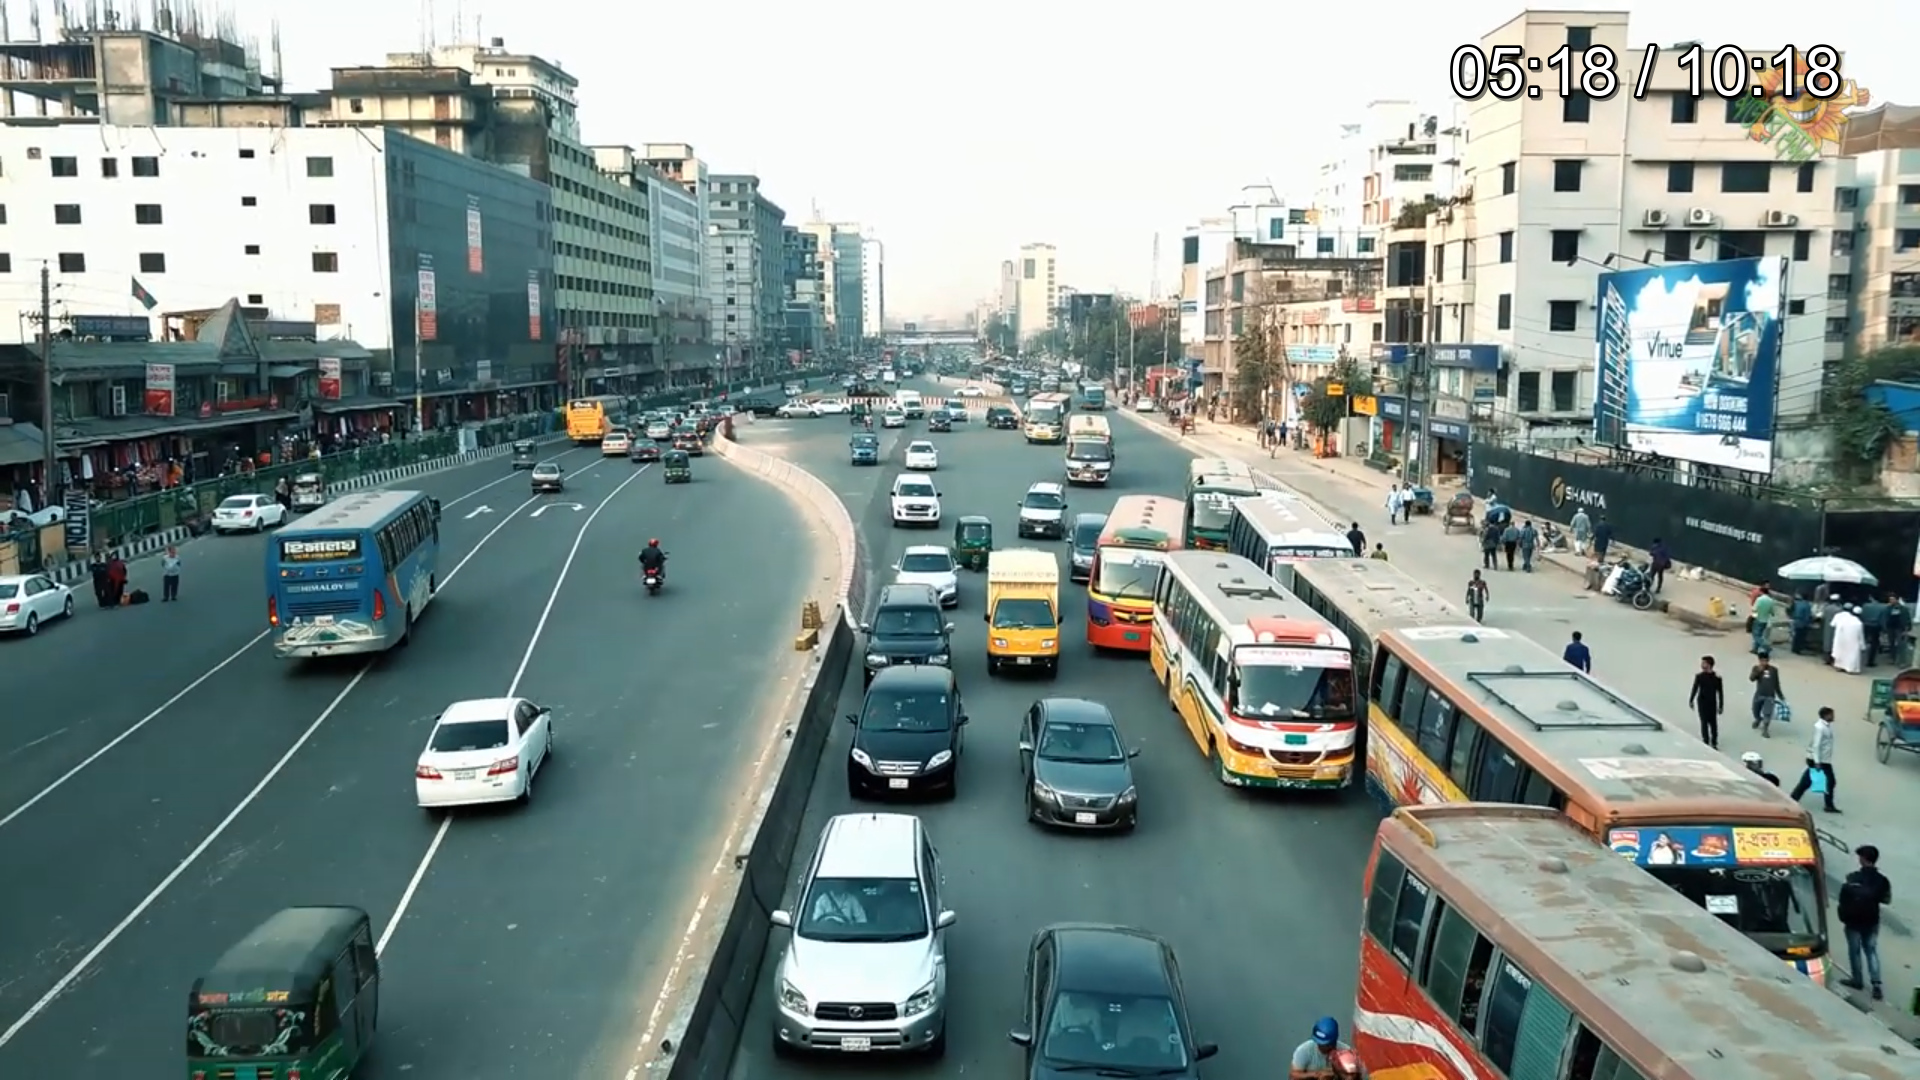MotorCycle: (636, 533, 673, 605)
